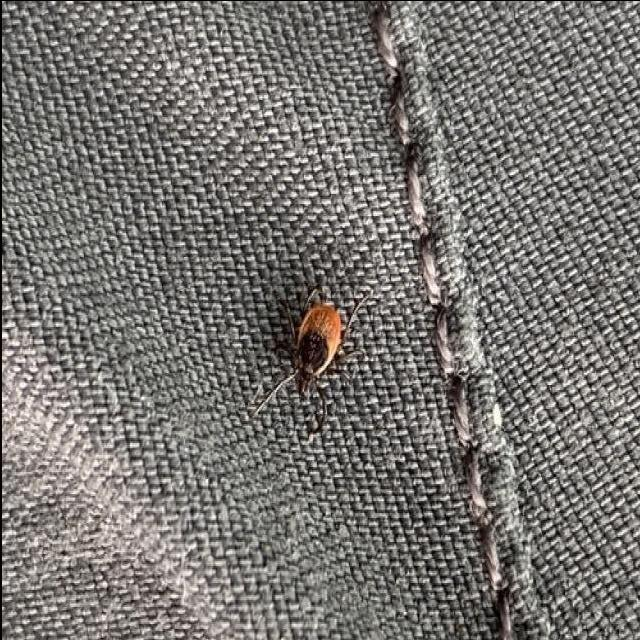Ixodes Ricinus-F: (252, 287, 366, 433)
